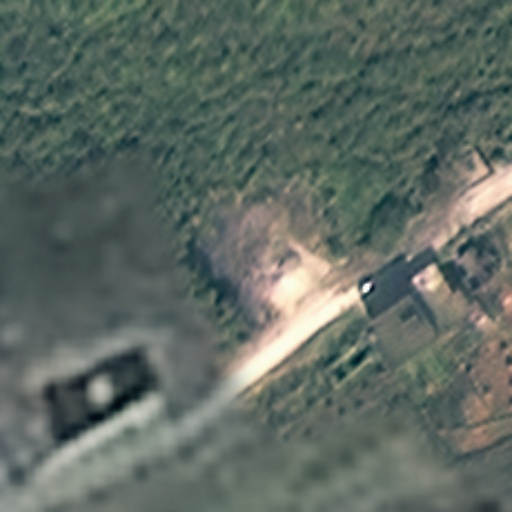landslide: (233, 214, 345, 336)
